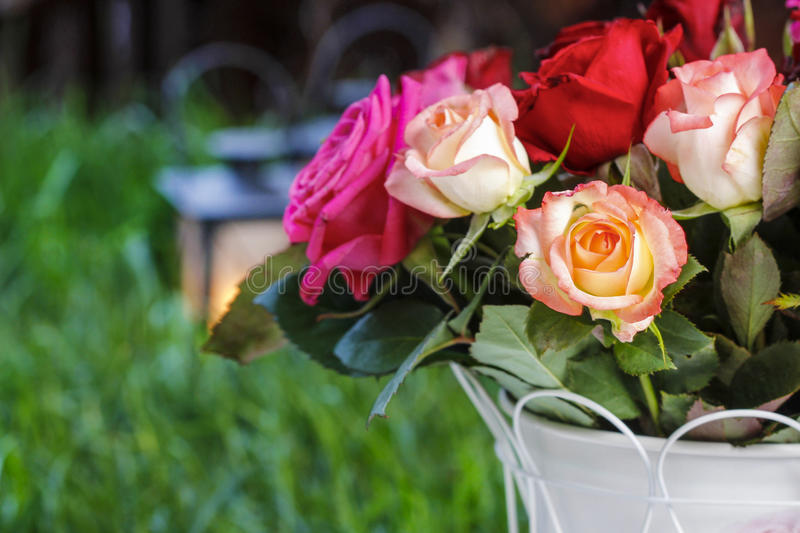RedRose: (496, 7, 676, 182), (638, 0, 735, 66)
